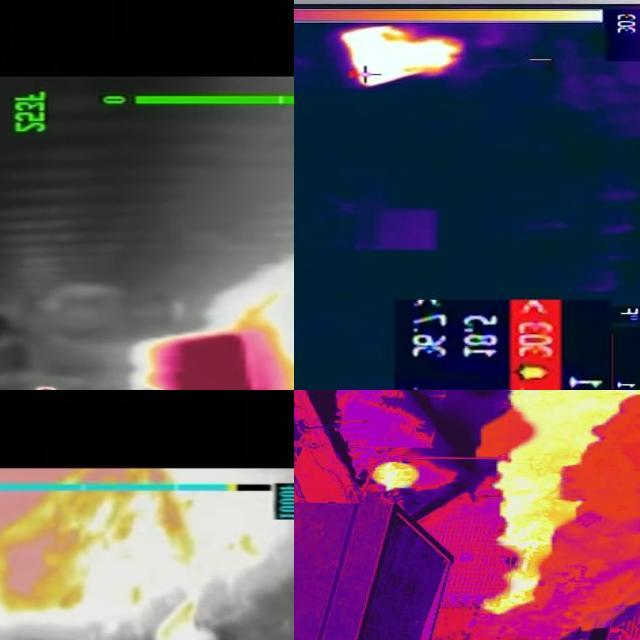fire: (464, 391, 640, 640), (40, 300, 295, 391), (1, 468, 180, 593), (337, 24, 466, 88)
